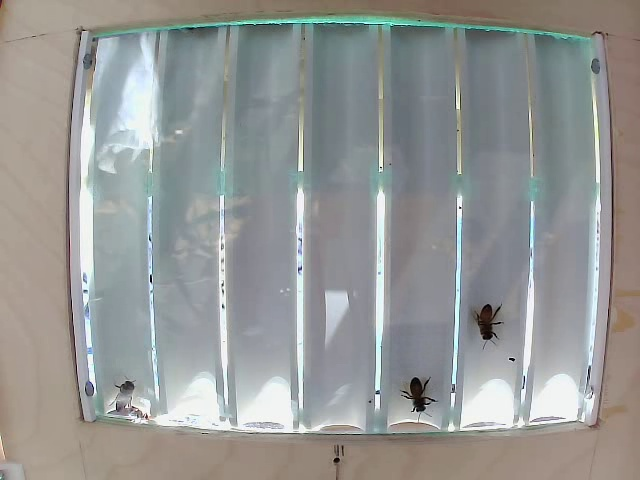bee: (466, 288, 510, 328), (408, 362, 445, 407), (114, 375, 155, 414)
